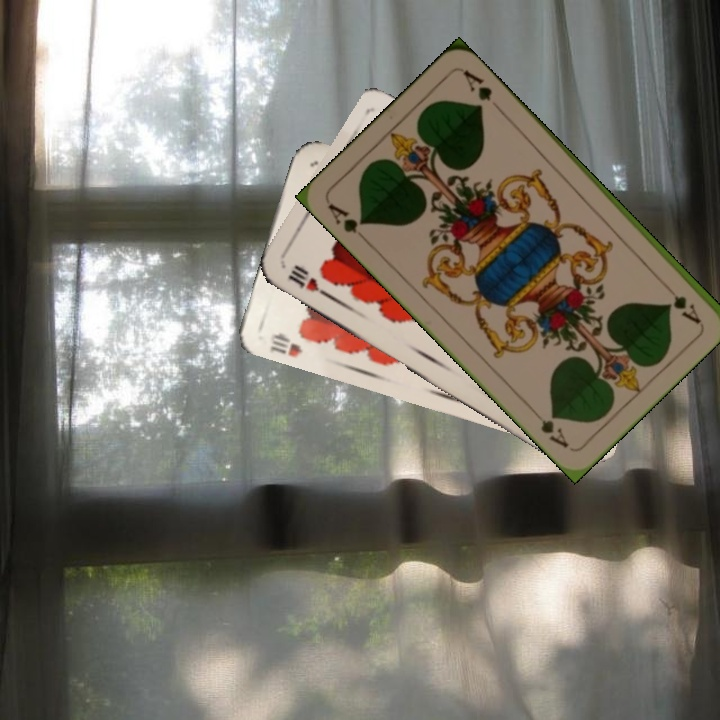GA: (323, 199, 368, 236), (669, 291, 704, 326)
H10: (284, 261, 334, 301), (265, 328, 306, 360)
